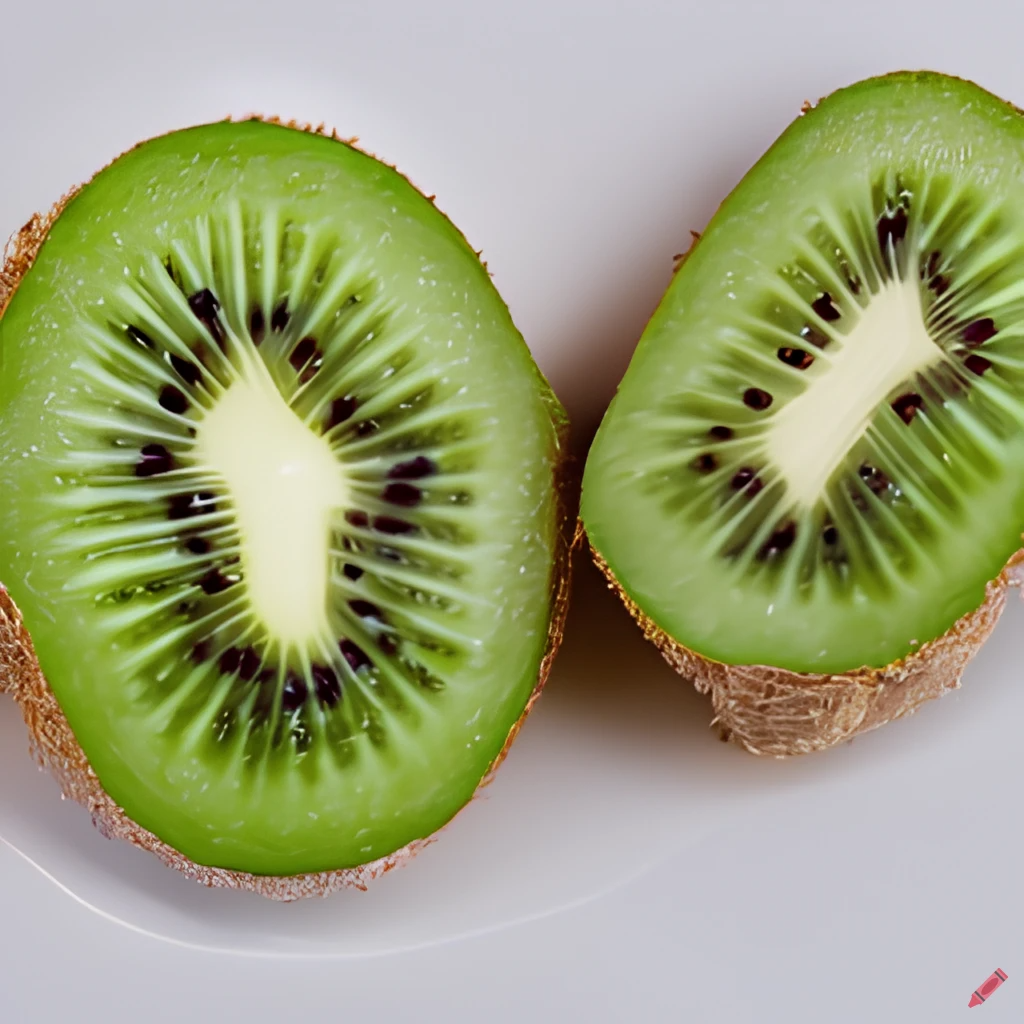Kiwi: (0, 77, 580, 876)
